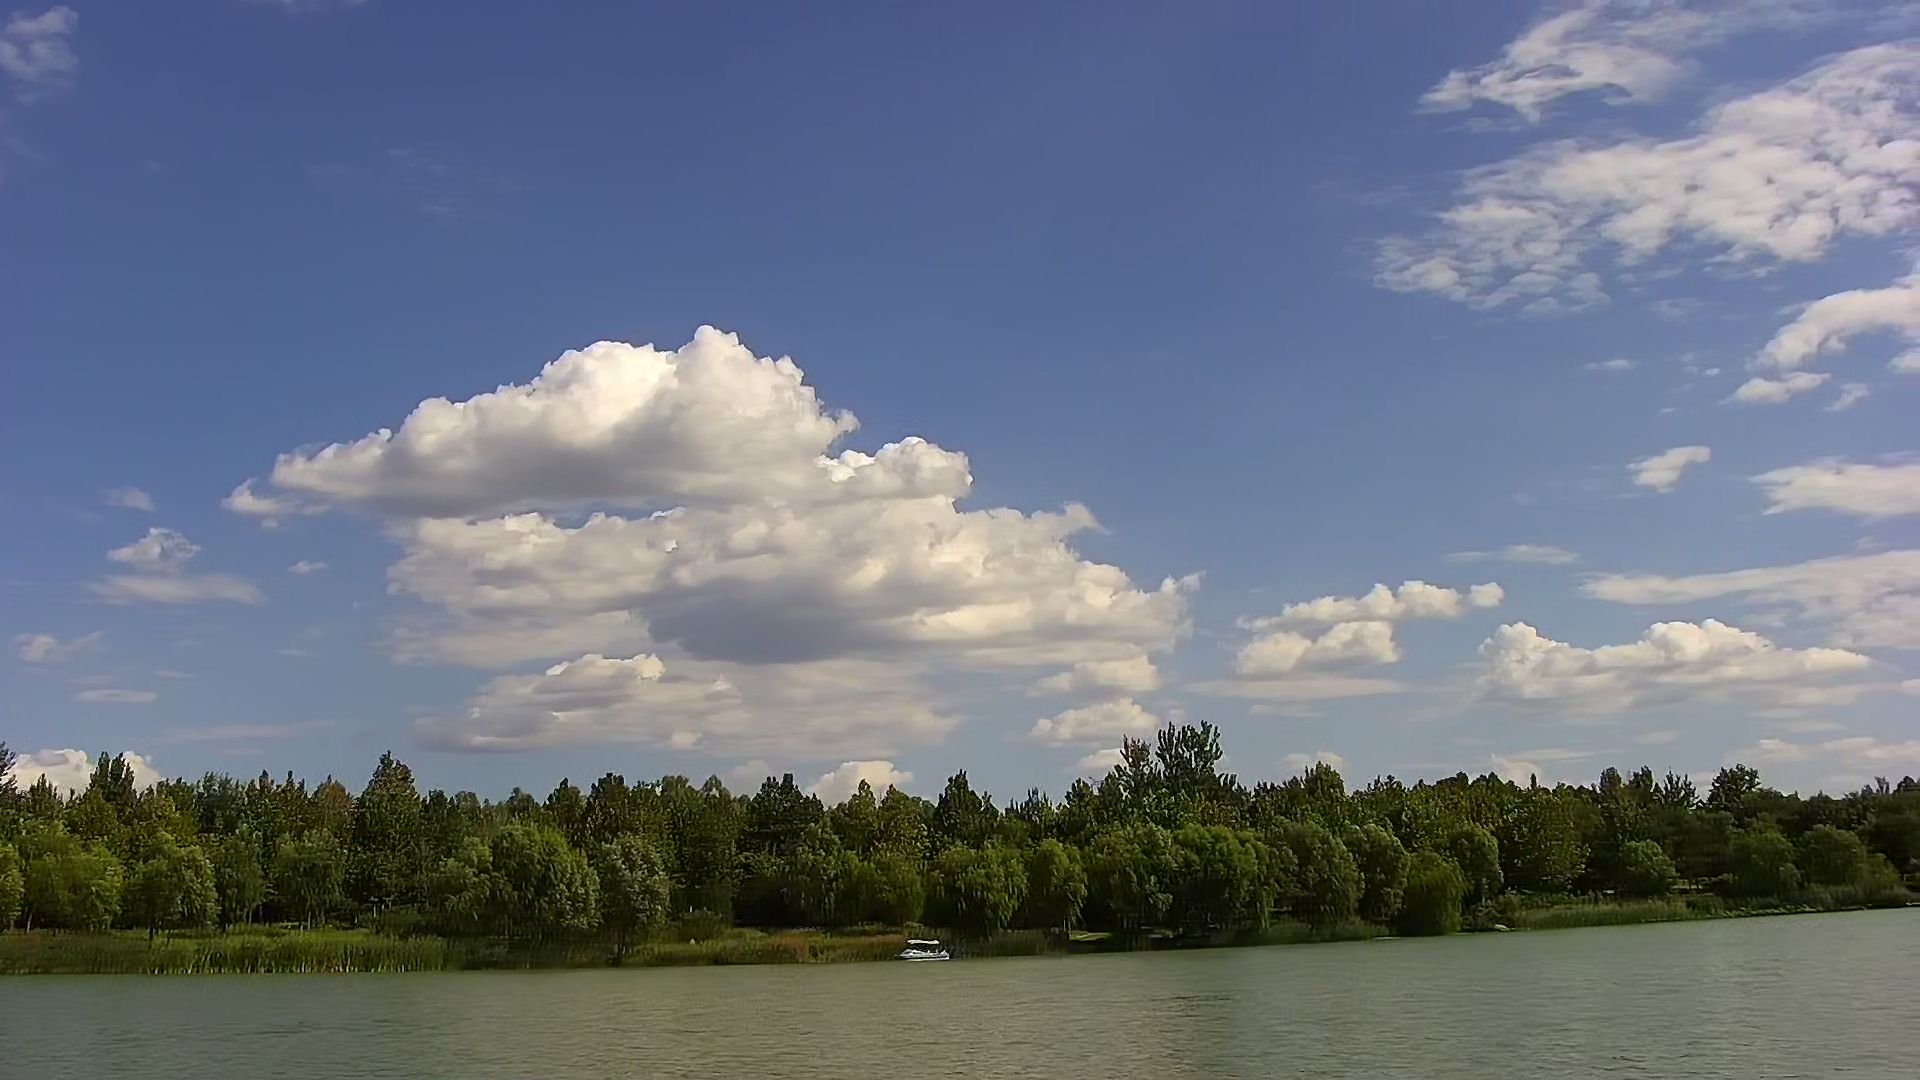boat: (895, 936, 957, 969)
